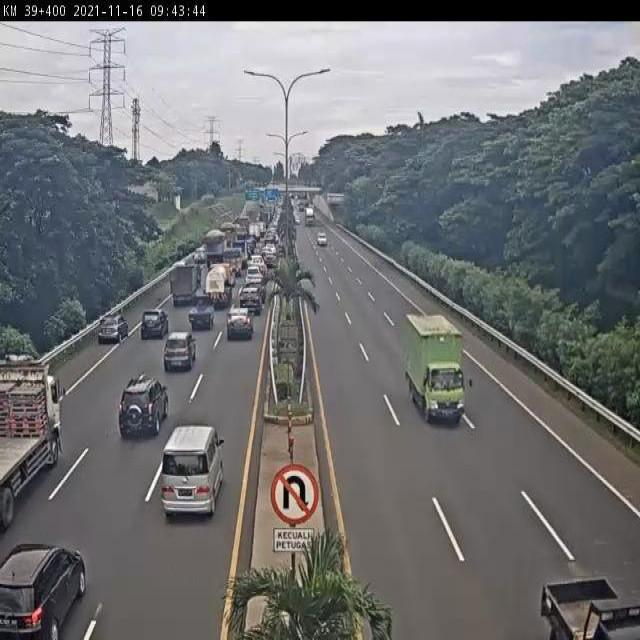car: (0, 537, 95, 640), (151, 422, 228, 530), (113, 373, 173, 443), (159, 328, 198, 379), (95, 307, 132, 348), (224, 298, 258, 342), (136, 303, 168, 344), (187, 295, 217, 337), (237, 289, 263, 319), (244, 275, 267, 304), (244, 265, 264, 288), (192, 245, 207, 267), (251, 253, 266, 272), (264, 251, 278, 268)
small truck: (401, 313, 465, 420), (164, 252, 203, 308), (222, 244, 246, 276)
truck-l-: (0, 352, 69, 540)
truck-m-: (203, 263, 234, 313), (198, 232, 226, 276), (216, 219, 236, 248)
